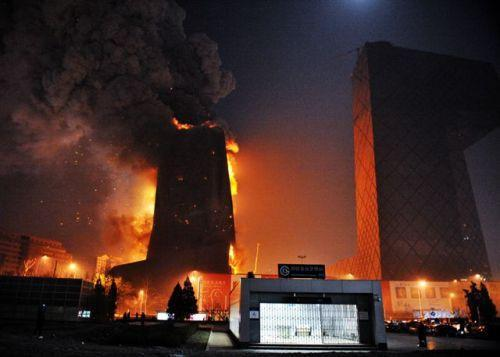fire: (219, 138, 246, 267), (131, 164, 156, 258), (167, 109, 223, 133)
